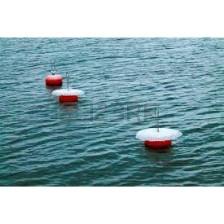buoy: (137, 128, 181, 146), (52, 89, 85, 103), (46, 73, 62, 87)
